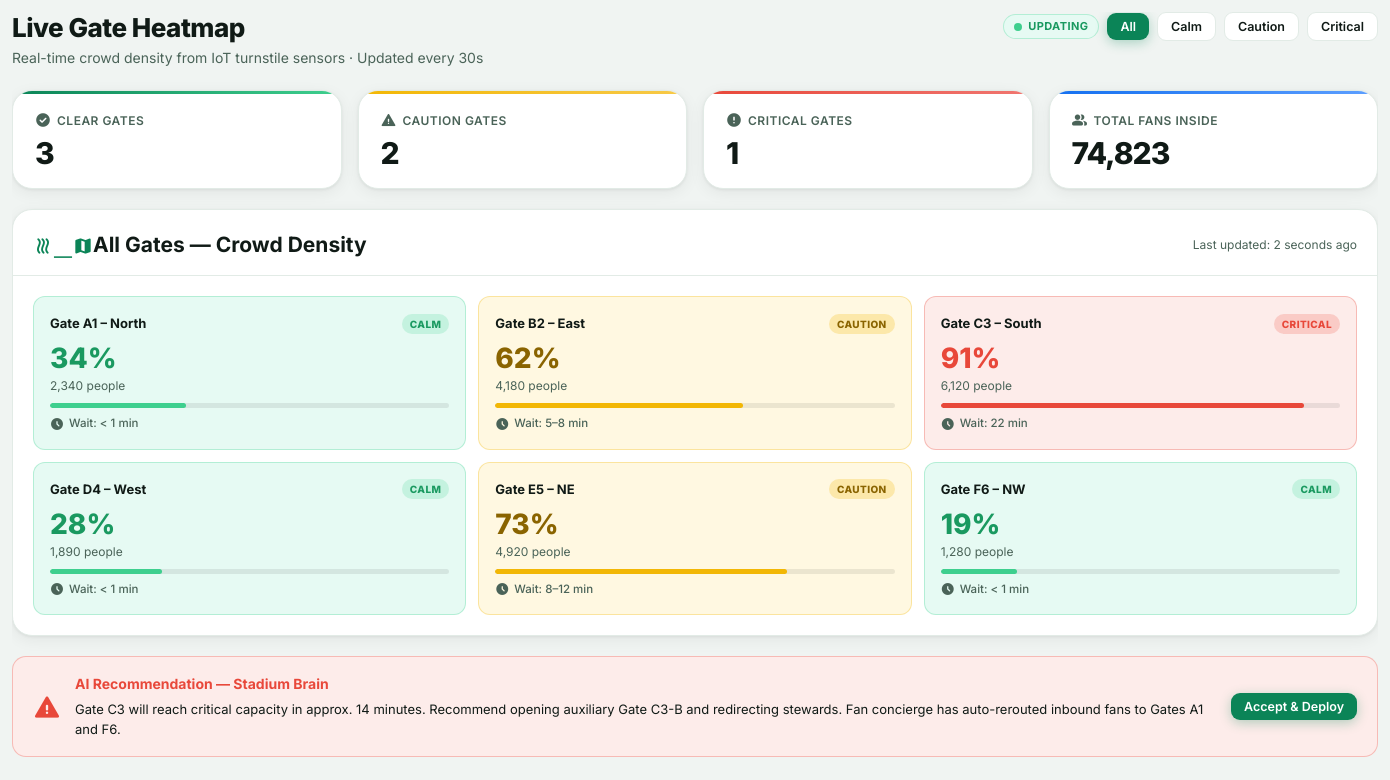
CrowdHeatmap Component › filters gates to critical only
Step 1. Click the button "Critical" → (1342, 26), box [1307,12,1378,41]
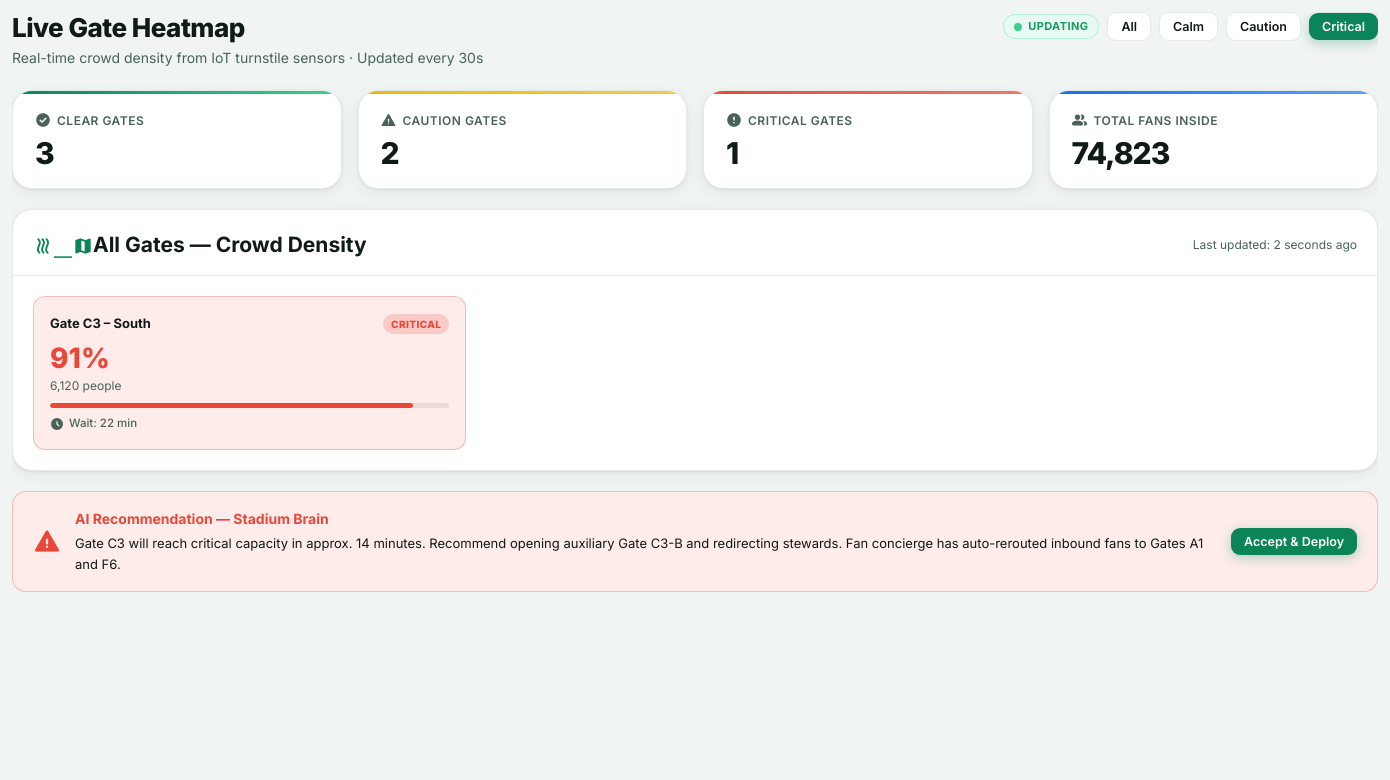
Expected: the heading "Gate C3 – South" is shown, [50,313,151,334]
Now the heading "Gate A1 – North" is gone
